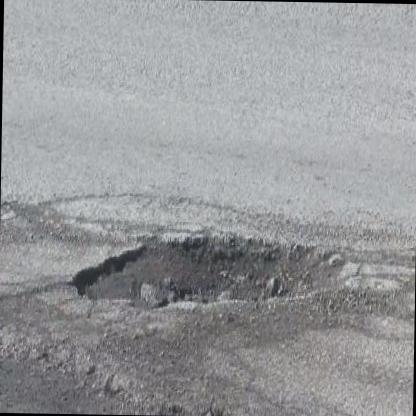pothole: (67, 218, 345, 314)
